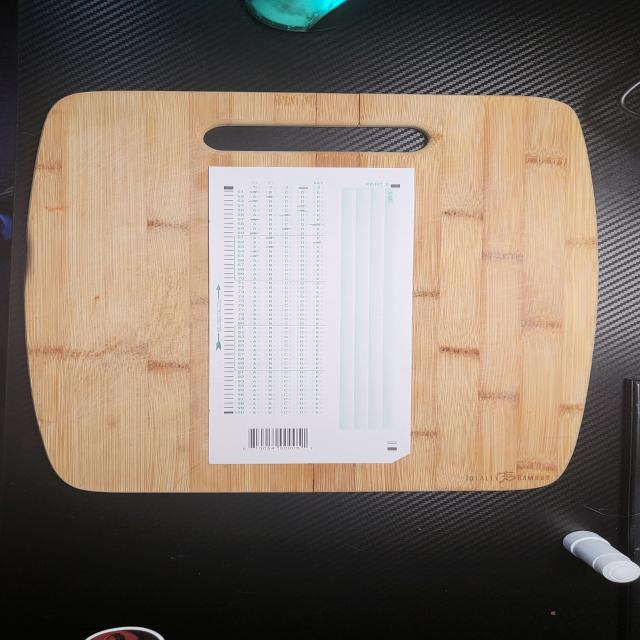scantron_back: (208, 166, 415, 464)
